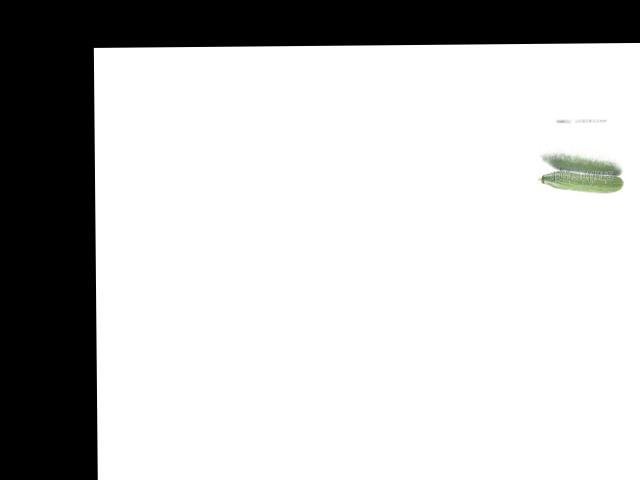cucumber: (537, 169, 622, 193)
